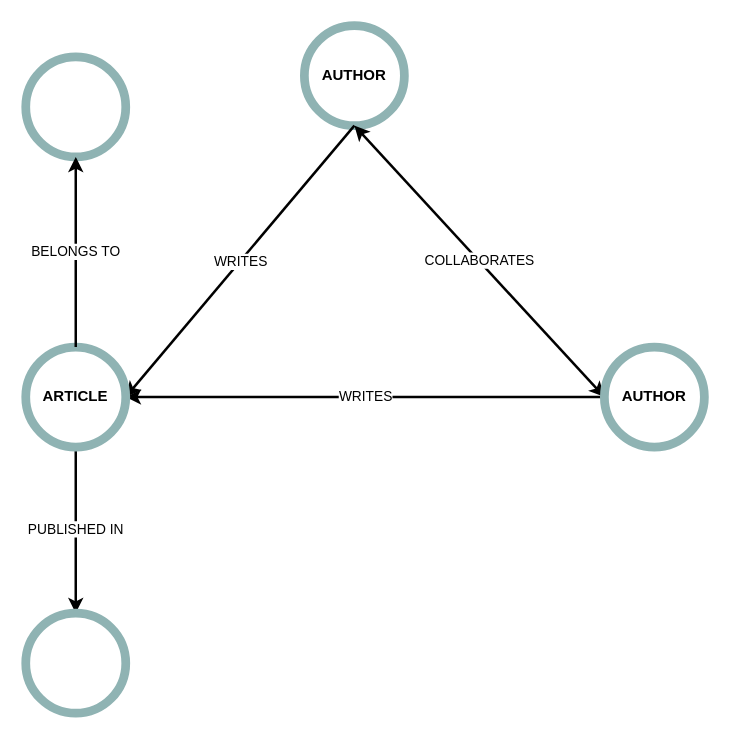
This 730x739 diagram has some shape labels left out. Each missing label, with the box of its shape:
CATEGORY: (21, 52, 130, 161)
JOURNAL: (21, 608, 130, 717)
